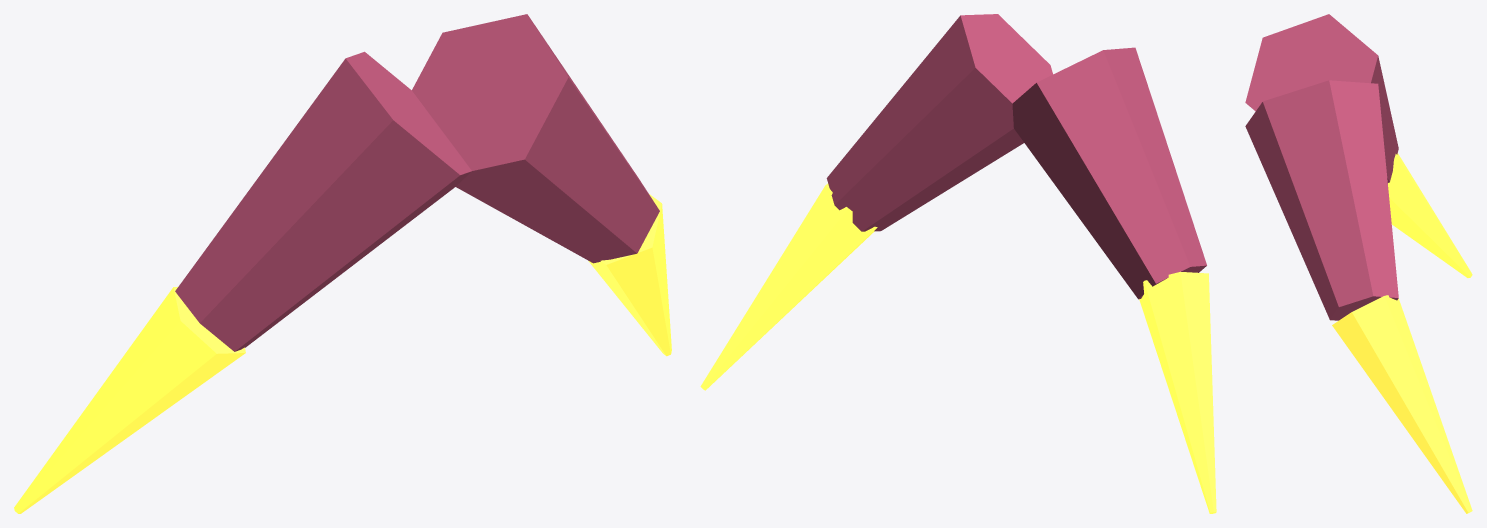
File: SM_Illaoi_Tentacle.fbx
3 views of the same model, side by side, from view 1: azimuth 30°, elevation 25°; view 2: azimuth 150°, elevation 25°; view 3: azimuth 270°, elevation 25° (orthographic). The views are drawn at different scales.
Parts seen in each view (by area): view 1: SM_Illaoi_Tentacle; view 2: SM_Illaoi_Tentacle; view 3: SM_Illaoi_Tentacle.
Boxes of the visible parts, x1,y1,x2,y2 form: SM_Illaoi_Tentacle: (14,14,671,513); SM_Illaoi_Tentacle: (700,14,1216,513); SM_Illaoi_Tentacle: (1245,14,1472,513).
Bounding box in the file's own units: 64.71 × 25.94 × 43.91.
